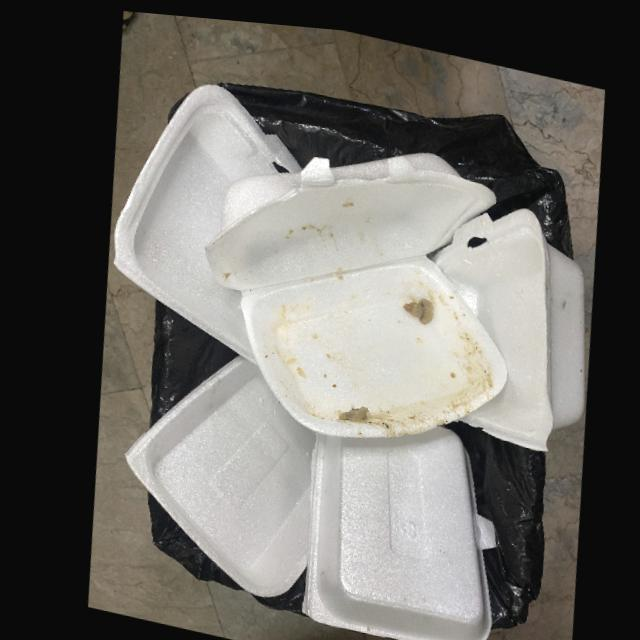styrofoam: (200, 143, 502, 431), (108, 79, 298, 359), (116, 351, 308, 592), (291, 418, 488, 640), (428, 198, 580, 442)
